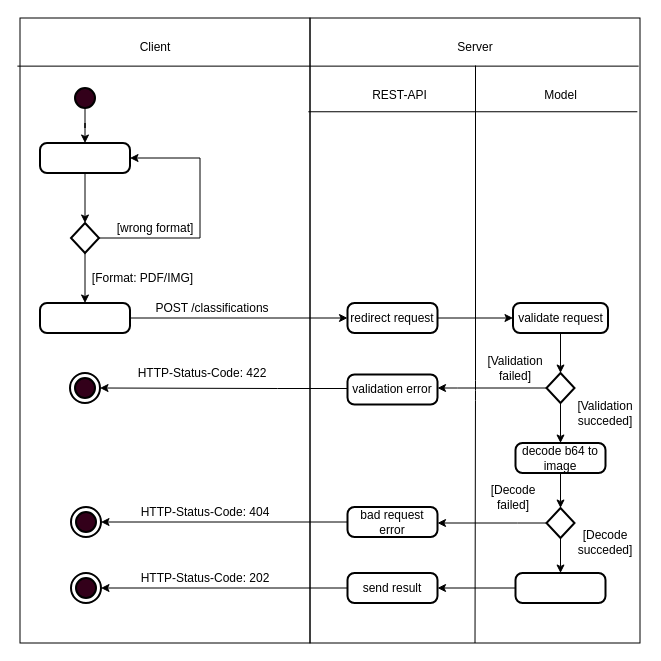
This 661x661 diagram has some shape labels left out. Here are the shapes that lost their labels. From the top down, the centre of each, then its label:
(x=84, y=158): select file
(x=84, y=318): create classification
(x=560, y=588): classify image
